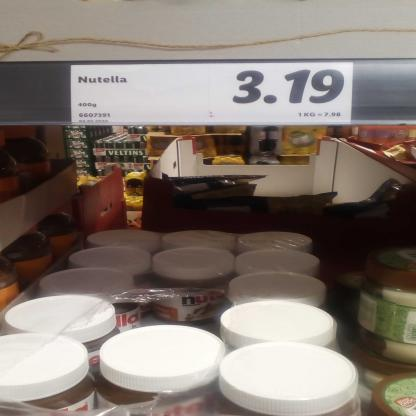prtg: (72, 63, 354, 126)
